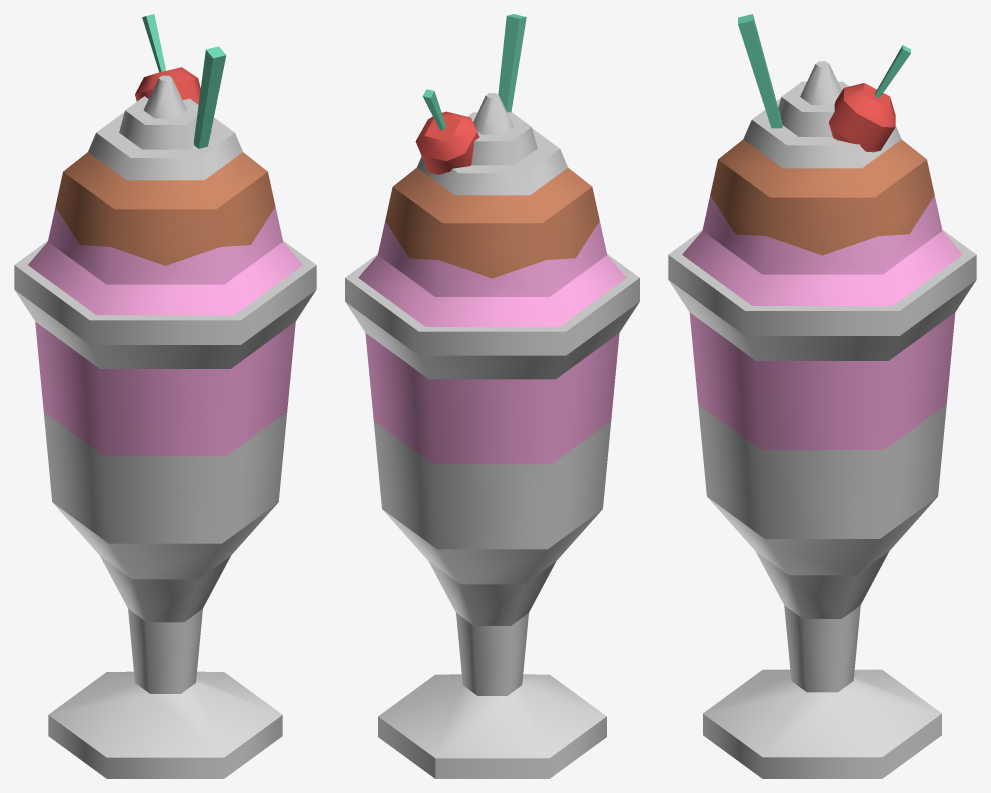
Rendered from glassbagare.glb.
3 views of the same model, side by side, from view 1: azimuth 30°, elevation 25°; view 2: azimuth 150°, elevation 25°; view 3: azimuth 270°, elevation 25° (orthographic). The views are drawn at different scales.
Parts seen in each view (by area): view 1: sundae, straw, cherry; view 2: sundae, cherry, straw; view 3: sundae, cherry, straw.
Boxes of the visible parts, bbox=[...] form: sundae: bbox=[14, 75, 316, 778]; straw: bbox=[194, 46, 226, 148]; cherry: bbox=[135, 14, 200, 104]; sundae: bbox=[345, 93, 639, 778]; cherry: bbox=[415, 89, 479, 174]; straw: bbox=[498, 14, 526, 112]; sundae: bbox=[668, 61, 976, 778]; cherry: bbox=[829, 45, 910, 152]; straw: bbox=[738, 14, 782, 128].
Bounding box in the file's own units: 0.2232 × 0.6679 × 0.2577.
